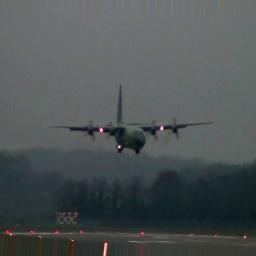Airplane: (45, 82, 216, 155)
